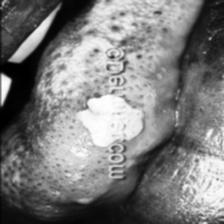Toxin: (74, 92, 146, 148)
